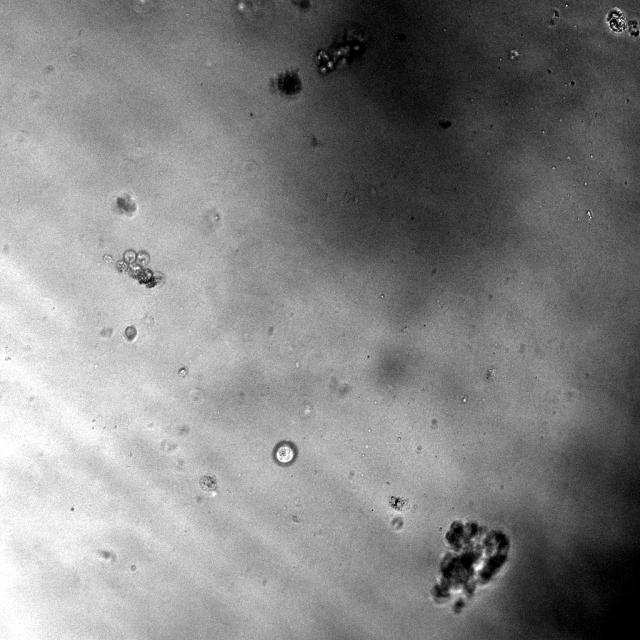organoid: (431, 519, 510, 612), (104, 249, 166, 287), (316, 28, 366, 75), (604, 7, 639, 38), (270, 68, 301, 98), (271, 440, 298, 467), (198, 473, 218, 493), (124, 325, 138, 342)
